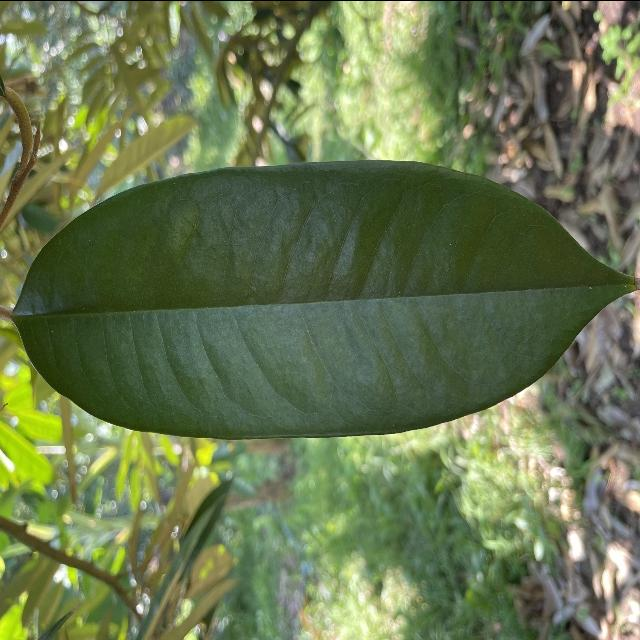No Disease: (5, 153, 640, 443)
